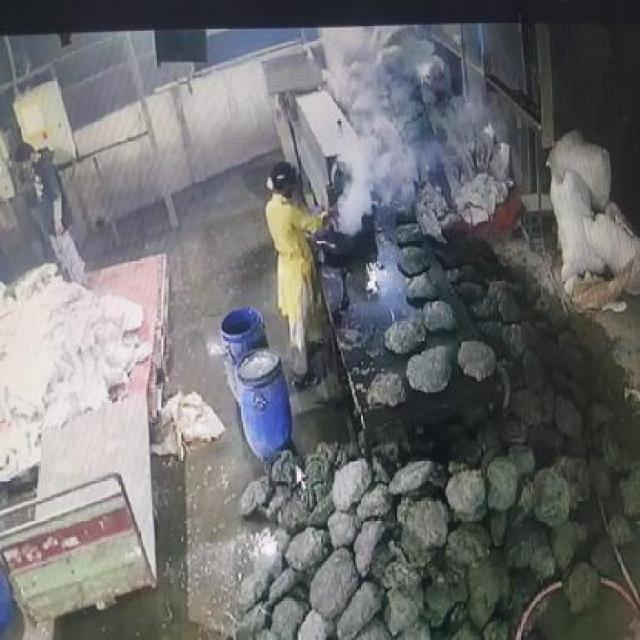fire: (332, 70, 432, 239)
